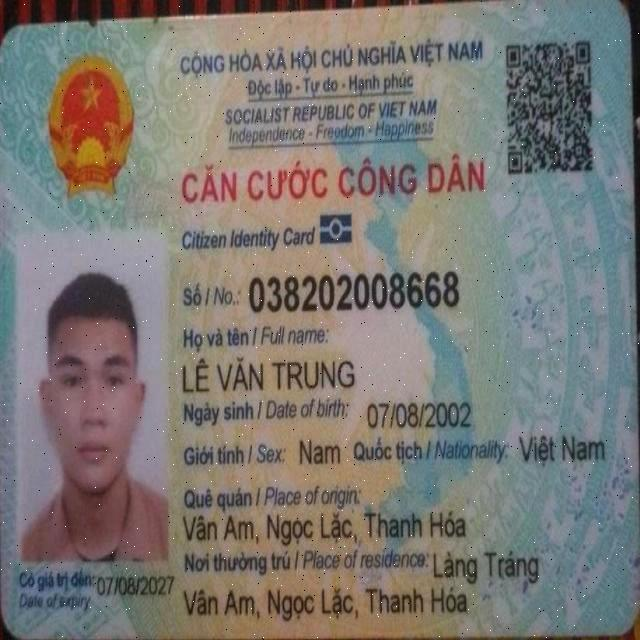current_place: (179, 579, 474, 631), (426, 548, 545, 587)
dob: (364, 395, 474, 434)
expire_date: (95, 572, 179, 602)
gender: (293, 433, 344, 470)
id: (246, 266, 460, 316)
name: (177, 351, 372, 395)
nationality: (513, 425, 614, 469)
origin_place: (180, 507, 478, 549)
